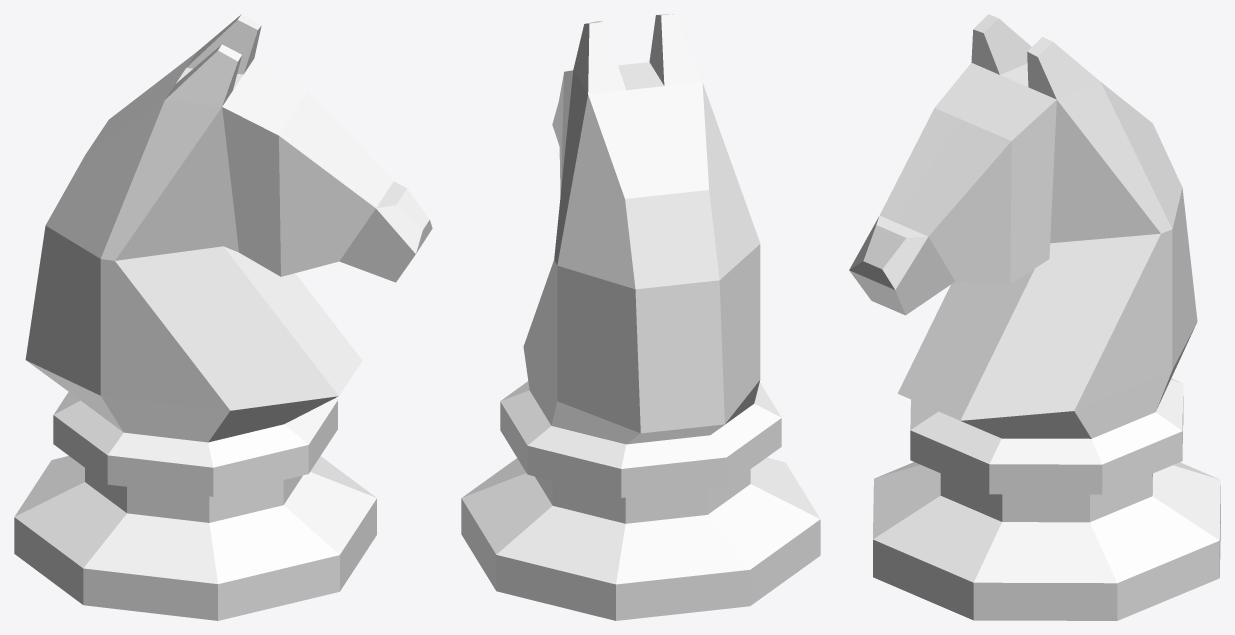
File: knight.fbx
3 renders of one model, left to right at view 1: azimuth 30°, elevation 25°; view 2: azimuth 150°, elevation 25°; view 3: azimuth 270°, elevation 25°, orthographic. The views are drawn at different scales.
Visible parts, largest first — view 1: Cylinder; view 2: Cylinder; view 3: Cylinder.
Boxes of the visible parts, x1=… form: Cylinder: x1=14, y1=14, x2=432, y2=620; Cylinder: x1=461, y1=14, x2=820, y2=620; Cylinder: x1=849, y1=14, x2=1220, y2=620.
Size of the model in its own units: 285 by 454 by 288.
